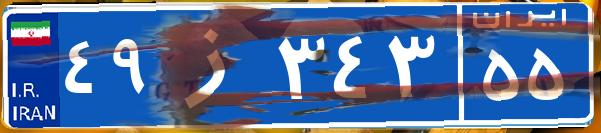3: (385, 28, 445, 110), (273, 28, 330, 110)
4: (330, 28, 385, 110), (57, 26, 110, 107)
5: (475, 38, 525, 113), (525, 38, 570, 115)
9: (110, 28, 158, 105)
ز: (158, 15, 273, 115)
